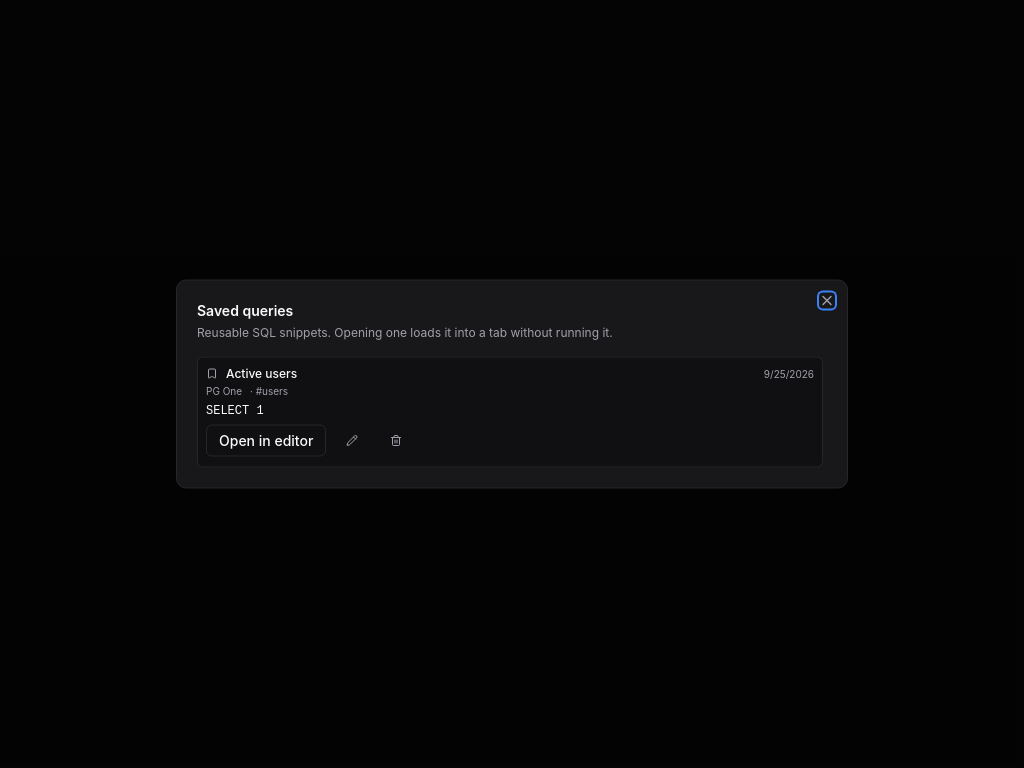
Test: SavedQueriesDialog › opens an update dialog for editing
Click the button named "Edit Active users".
click(352, 440)  # box [334,422,370,458]
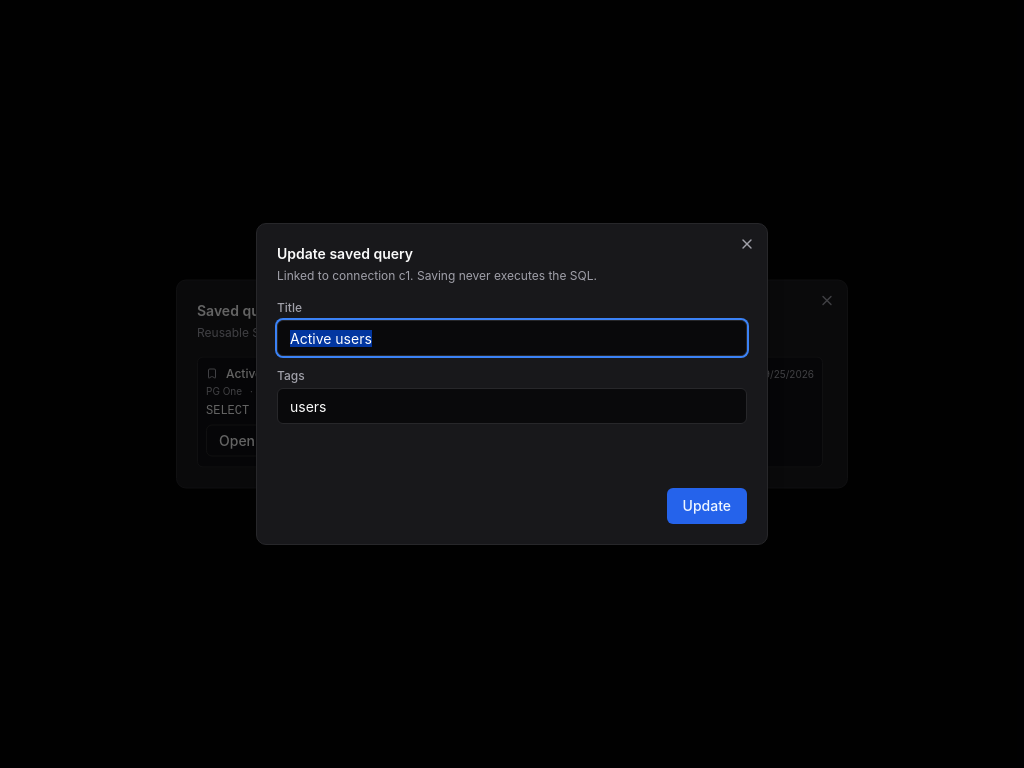
Expected: the heading "Update saved query" is shown, [277,245,413,262]
